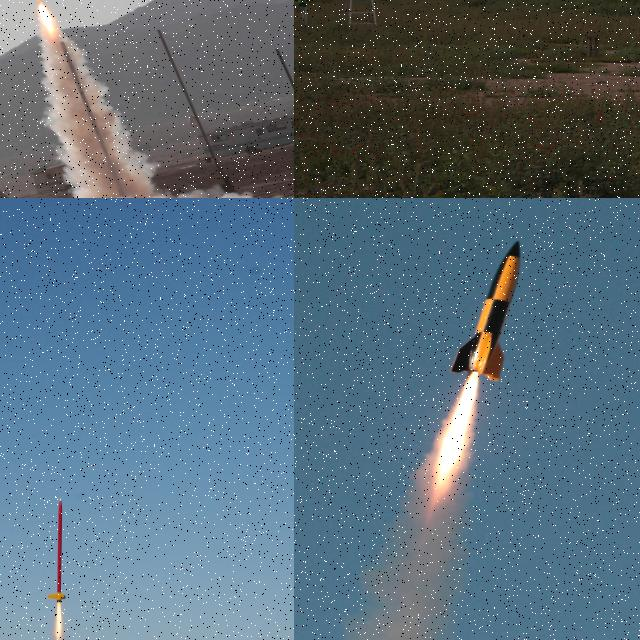Rocket: (449, 240, 521, 382), (47, 498, 67, 603)
